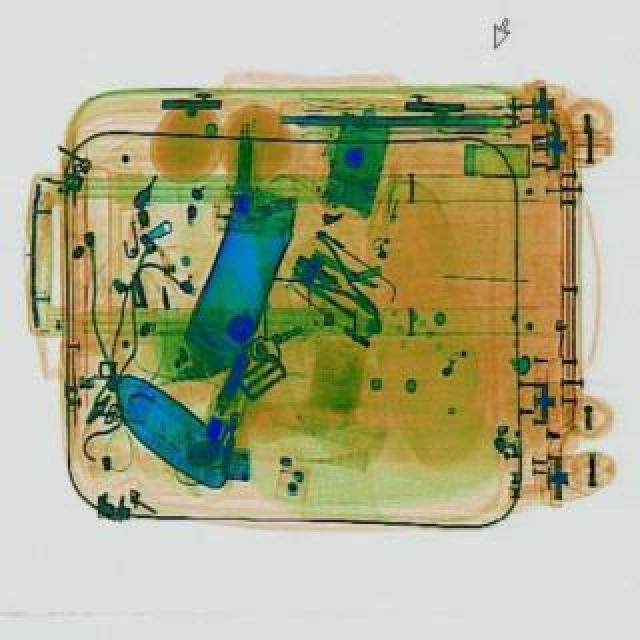wrench: (284, 238, 392, 336)
